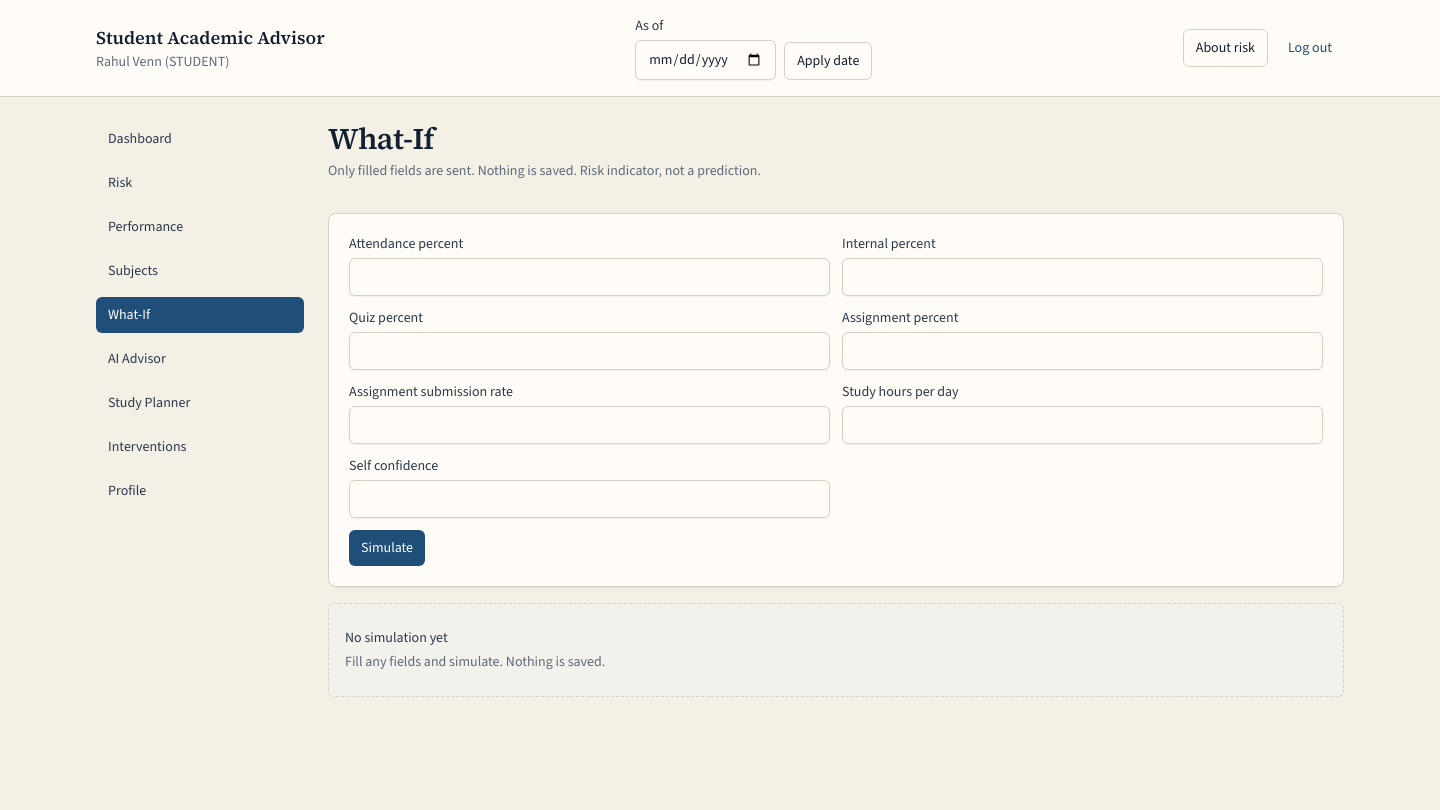
What-If page › sends only filled override fields and shows current vs simulated
The width and height of the screenshot is (1440, 810).
Expected: the heading "What-If" is shown, [328,118,434,159]
Expected: the text "No simulation yet" is shown, [345,628,448,647]
Type "80" into the field labelled "Attendance percent" at (590, 277), box [349,258,830,296]
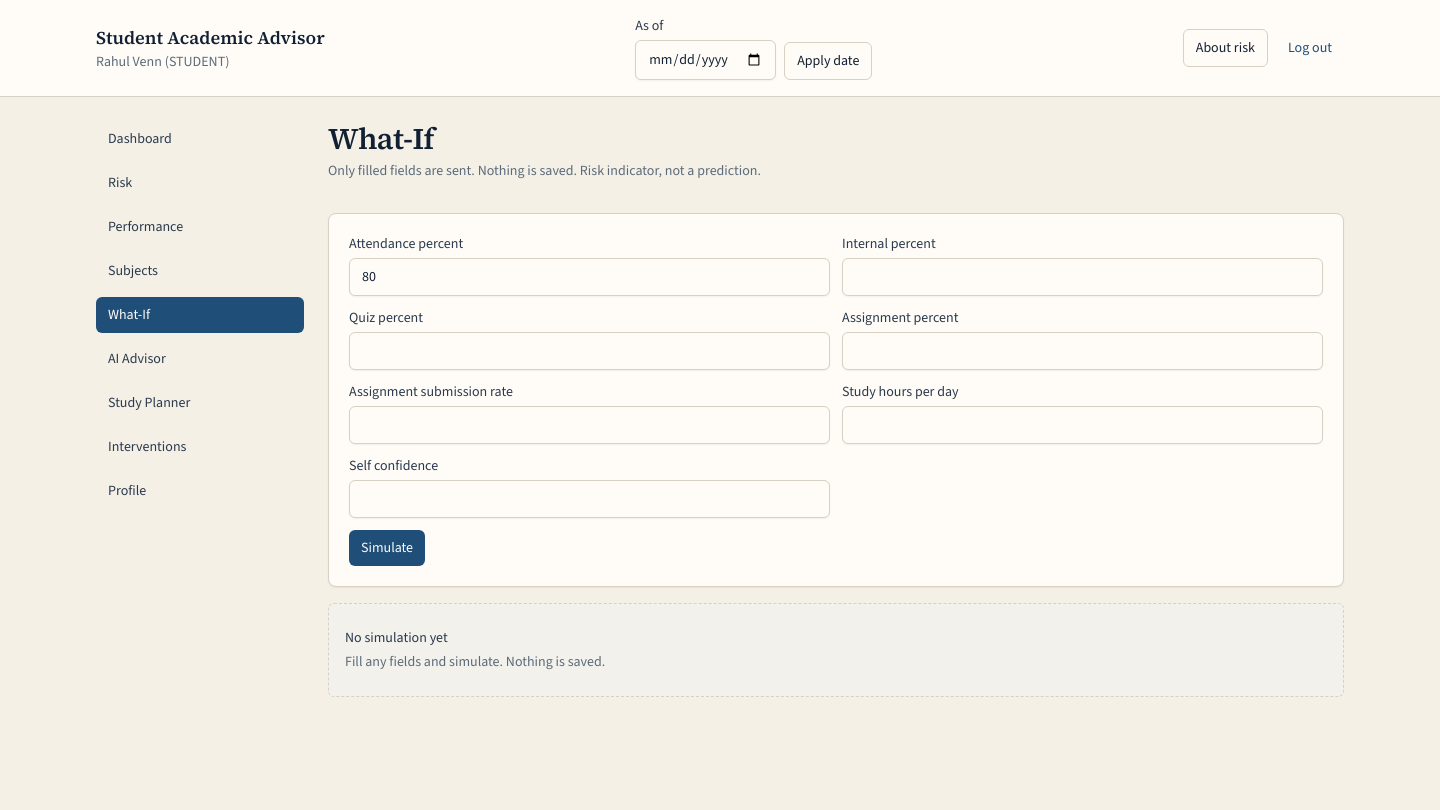
Click the button "Simulate" at (387, 548), box [349,530,425,566]
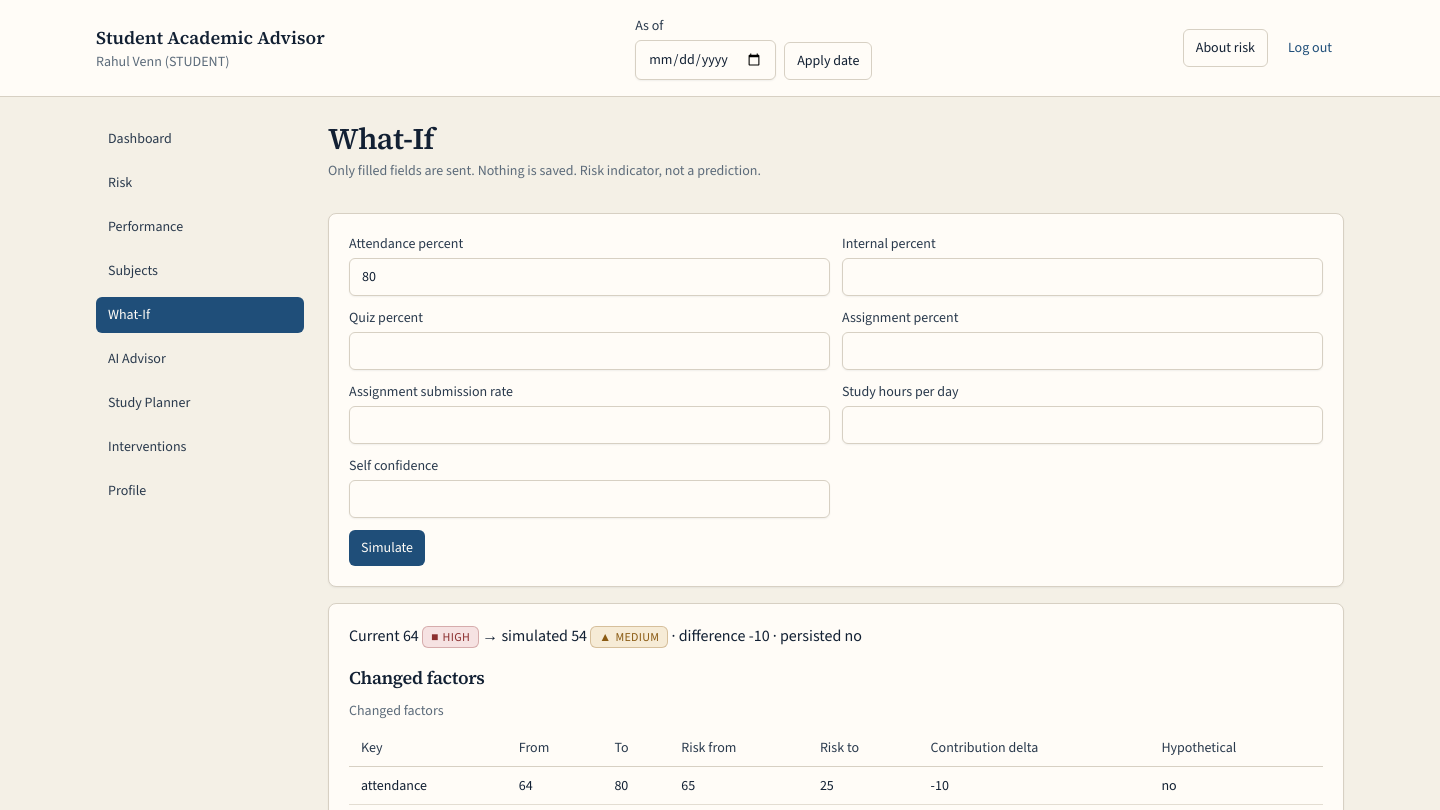
Now the text "difference" is shown, box [668,625,746,646]
Now the text "-10" is shown, box [919,766,1149,804]
Now the text "MEDIUM" is shown, box [616,629,659,645]
